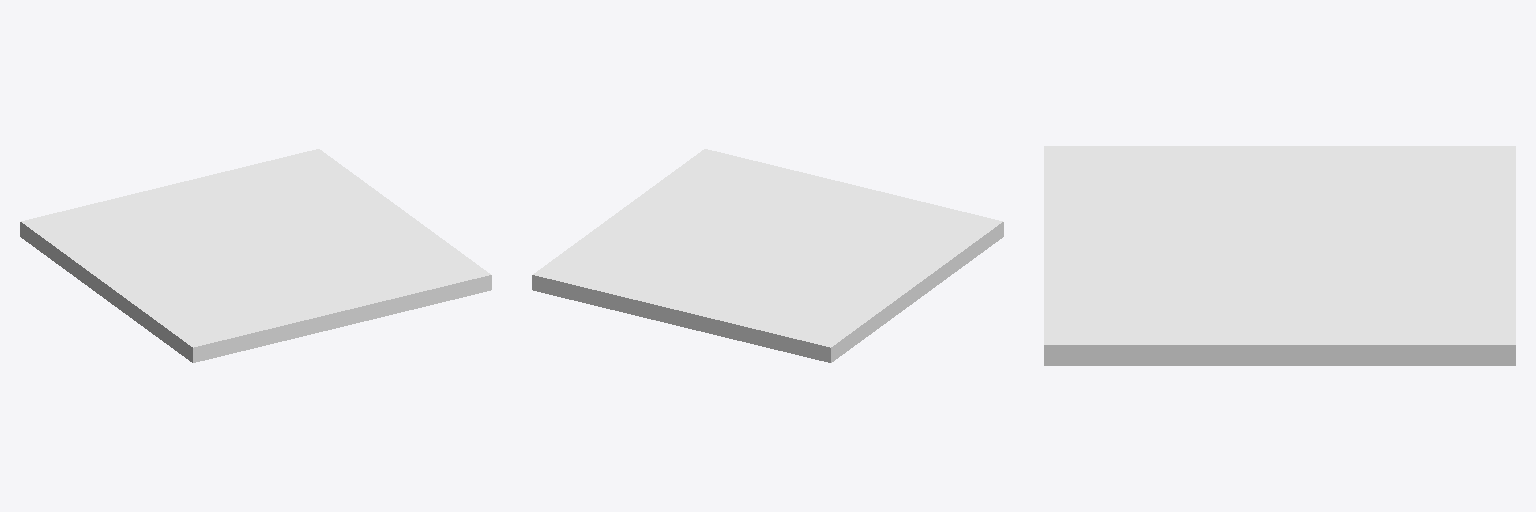
URDF robot description (plane):
<?xml version="1.0" ?>
<robot name="plane">
  <link name="world"/>
  <joint name="fixed_joint" type="fixed">
    <parent link="world"/>
    <child link="root"/>
  </joint>
  <link name="root"/>
  <joint name="surface_joint" type="prismatic">
    <parent link="root"/>
    <child link="surface_link"/>
    <limit effort="1000" lower="-10" upper="10" velocity="100000"/>
    <axis xyz="0 0 1"/>
    <origin rpy="0 0 0" xyz="0 0 0"/>
  </joint>
  <link name="surface_link">
    <contact>
        <lateral_friction value="0.0"/>
        <restitution value="0.0"/>
    </contact>
    <inertial>
      <origin rpy="0 0 0" xyz="0 0 0"/>
       <mass value="1.0"/>
       <inertia ixx="0" ixy="0" ixz="0" iyy="0" iyz="0" izz="0"/>
    </inertial>
    <visual>
      <origin rpy="0 0 0" xyz="0 0 0"/>
      <geometry>
      <box size="0.1 0.1 0.005"/>
      </geometry>
       <material name="white">
        <color rgba="1 1 1 1"/>
      </material>
    </visual>
    <collision>
      <origin rpy="0 0 0" xyz="0 0 0"/>
      <geometry>
      <box size="0.1 0.1 0.005"/>
      </geometry>
    </collision>
  </link>
</robot>

--- What the picture shows (computed from the rendered views, not written in the file) ---
3 views of the same robot in one strip: view 1: azimuth 30°, elevation 25°; view 2: azimuth 150°, elevation 25°; view 3: azimuth 270°, elevation 25° (orthographic).
Model plane with 3 links and 2 joints (1 prismatic, 1 fixed), rooted at world, posed all joints at 0.
Visible links, largest first — view 1: surface_link; view 2: surface_link; view 3: surface_link.
Link boxes in pixels (x1=…): surface_link: x1=20, y1=149, x2=491, y2=362; surface_link: x1=532, y1=149, x2=1003, y2=362; surface_link: x1=1044, y1=146, x2=1515, y2=365.
Bounding box of the posed robot: 0.1 × 0.1 × 0.005 m (x, y, z).
Geometry: primitives only (box / cylinder / sphere), no mesh files.
